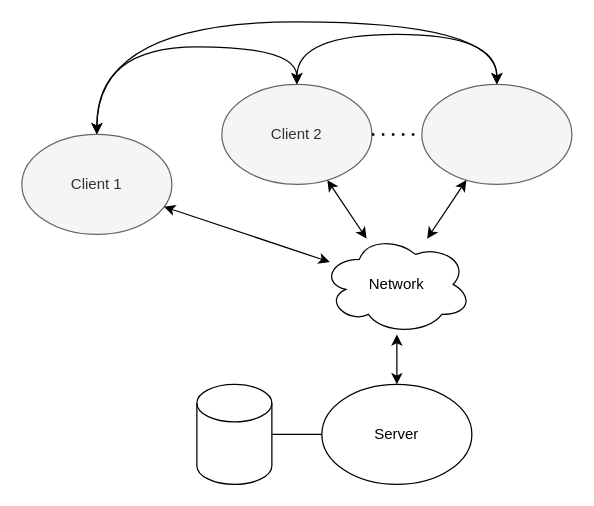
Some shapes in this 594 by 506 pixel diagram are drawn without their labels. The shapes that lost their labels are listed below. From the top down, each one's centre as x and y in pixels, then its label:
At point 496,133: "Client n".
At point 234,433: "DB/FILE".
